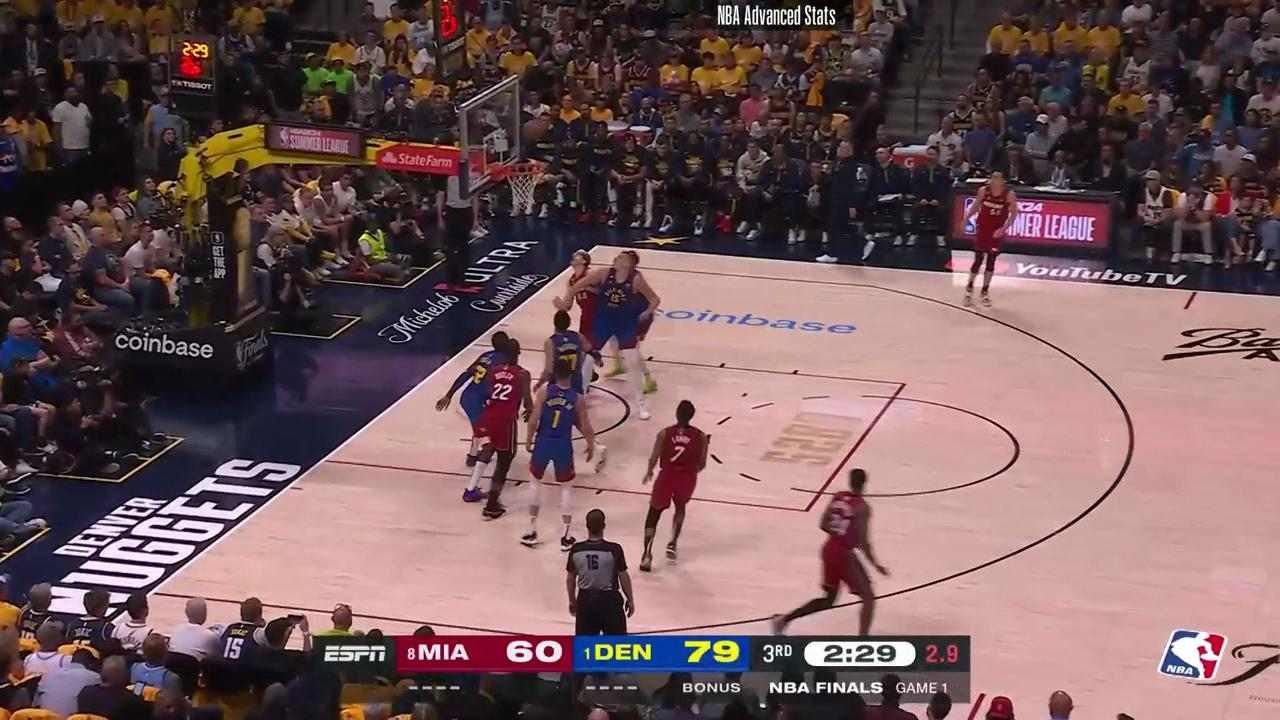Backboard: (467, 76, 516, 200)
Ball: (523, 119, 544, 141)
Basket: (504, 162, 543, 212)
Person: (809, 465, 898, 641), (516, 361, 599, 548), (449, 339, 531, 524), (638, 402, 719, 574), (586, 249, 663, 400), (963, 171, 1017, 307), (552, 251, 615, 347), (540, 309, 595, 394)
Referee: (559, 511, 642, 636)
Shot Clock: (162, 33, 221, 116)
